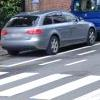crosswalks: (0, 68, 100, 100)
